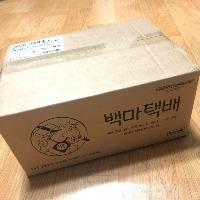undamaged: (0, 15, 198, 179)
